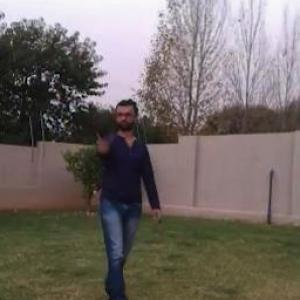takeoff-hand: (90, 120, 117, 162)
